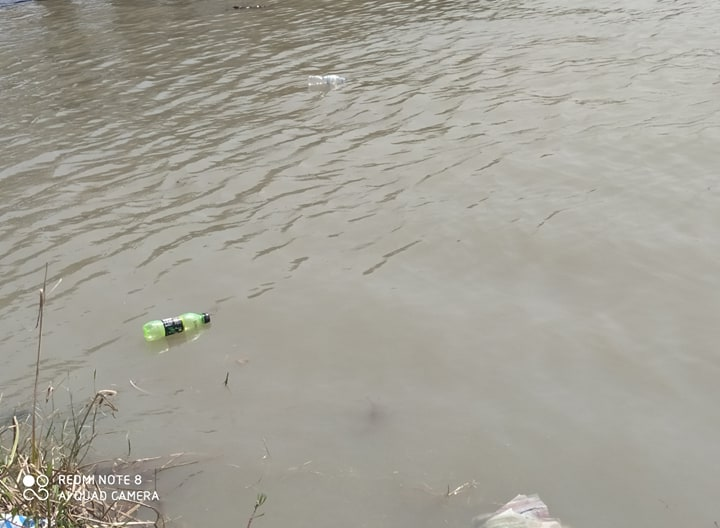Plastic Bottle: (144, 312, 210, 342), (307, 74, 345, 86)
